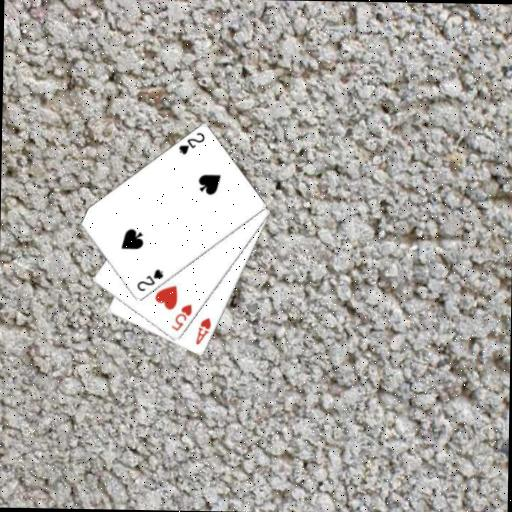2S: (134, 266, 165, 294), (176, 129, 207, 157)
5H: (168, 301, 194, 333)
AH: (192, 315, 213, 347)
